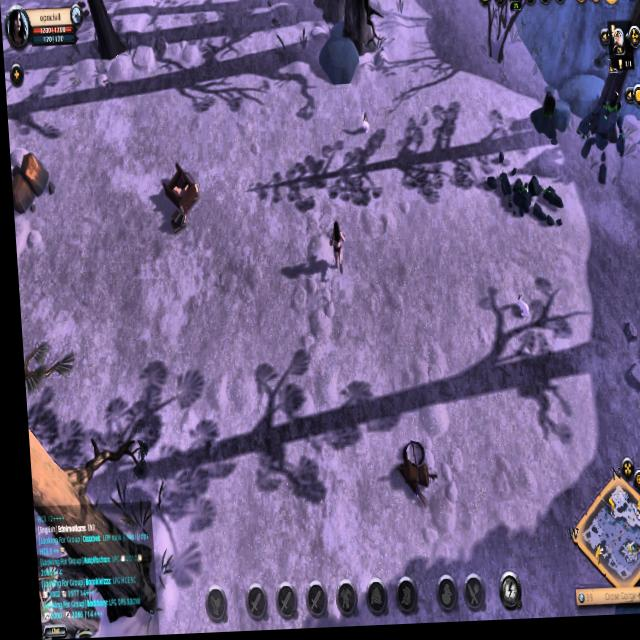limestone: (8, 149, 56, 218)
tin_ore: (525, 90, 560, 154)
